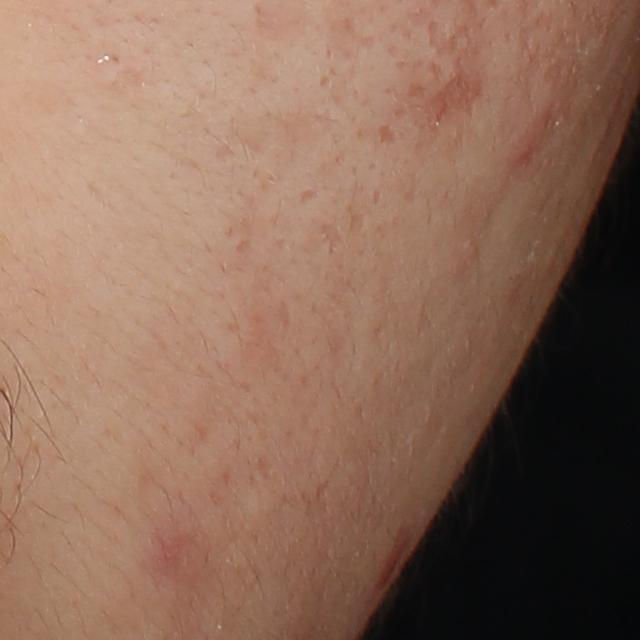atrophic_scar: (343, 201, 369, 241), (319, 221, 346, 256), (278, 295, 297, 341), (378, 123, 399, 145), (236, 237, 256, 259), (406, 82, 429, 100), (300, 187, 321, 205), (371, 188, 382, 207)
